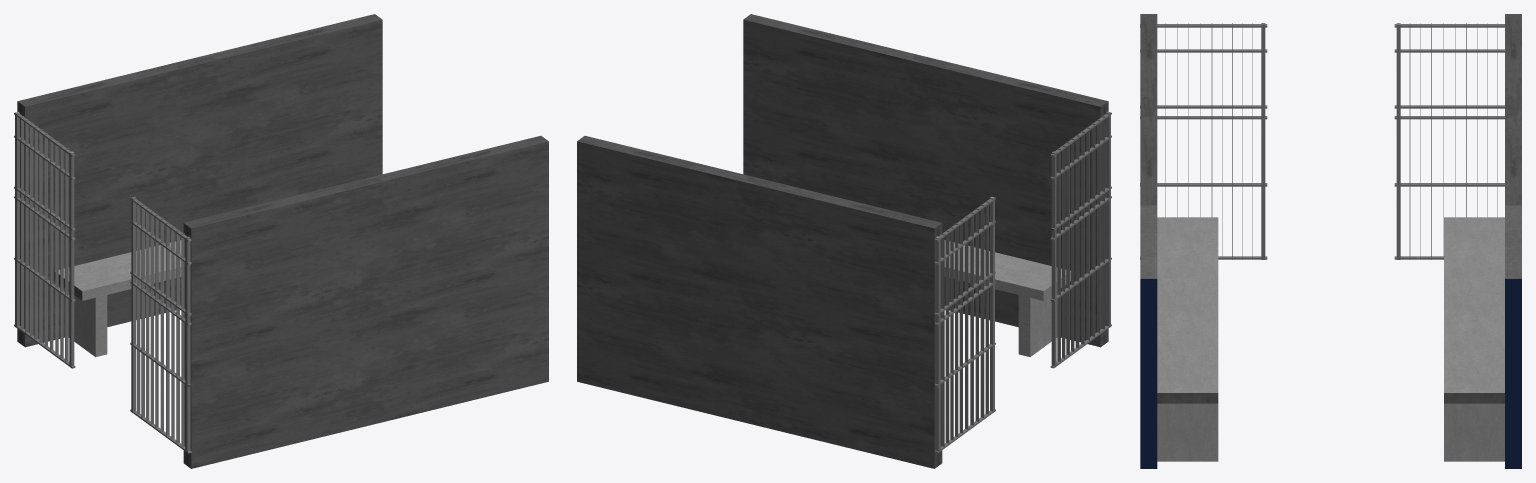
File: Holding jail.fbx
3 views of the same model, side by side, from view 1: azimuth 30°, elevation 25°; view 2: azimuth 150°, elevation 25°; view 3: azimuth 270°, elevation 25° (orthographic). The views are drawn at different scales.
Visible parts, largest first — view 1: polySurface4033; view 2: polySurface4033; view 3: polySurface4033.
Boxes of the visible parts, bbox=[...] form: polySurface4033: bbox=[14, 14, 548, 468]; polySurface4033: bbox=[577, 14, 1111, 468]; polySurface4033: bbox=[1140, 14, 1521, 468].
Size of the model in its own units: 3.92 by 2.49 by 3.27.
1 material, 1 textured.
